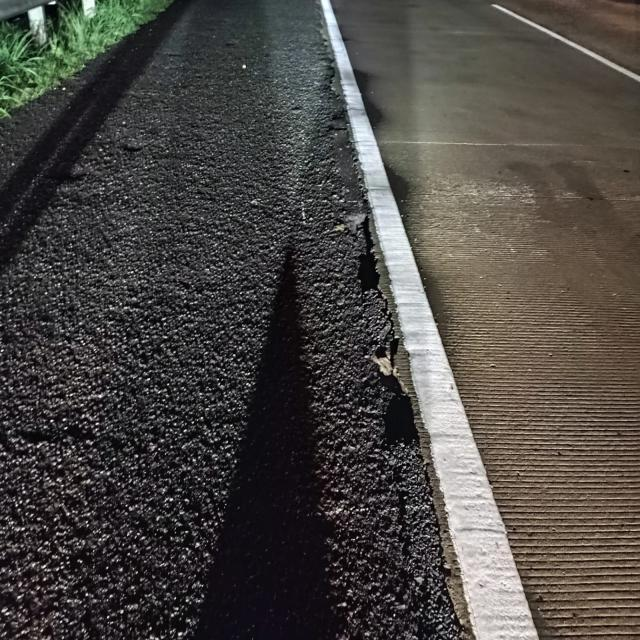Buraco: (360, 334, 424, 453), (349, 210, 390, 303), (115, 140, 147, 158)
